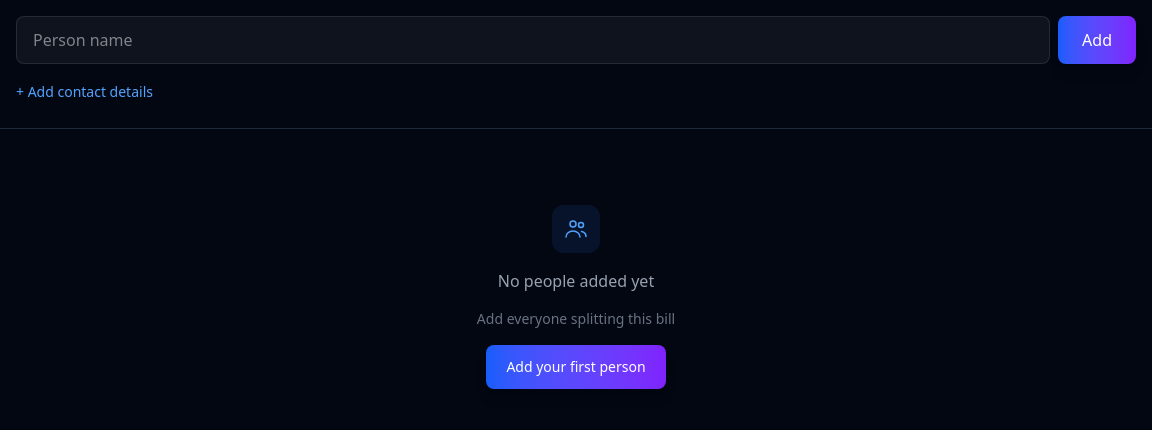
Test case: PeoplePanel › clears error when user starts typing
This screenshot has width=1152, height=430.
Click the button "Add" at x=1097, y=40, box [1058, 16, 1136, 64]
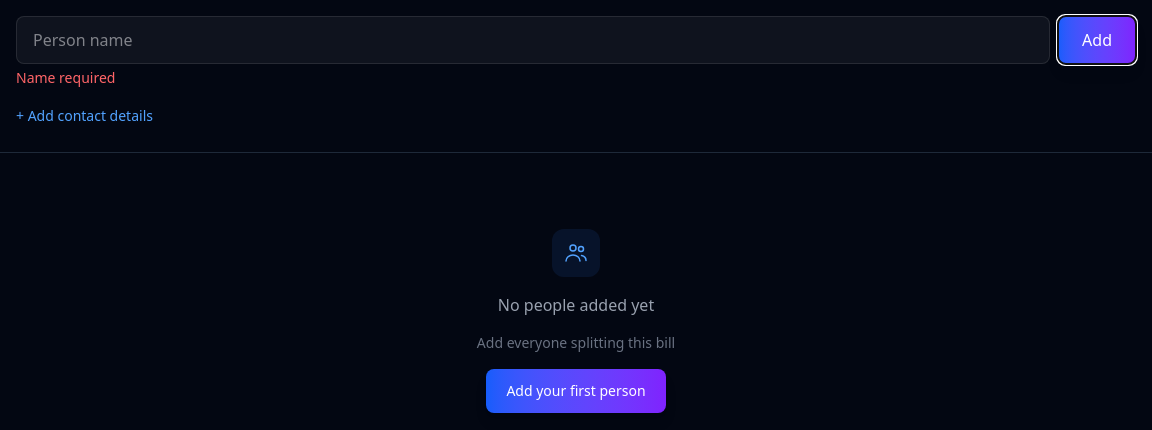
Result: the text "Name required" is shown at [16, 68, 115, 87]
Type "A" into the field with placeholder "Person name" at x=533, y=40, box [16, 16, 1050, 64]
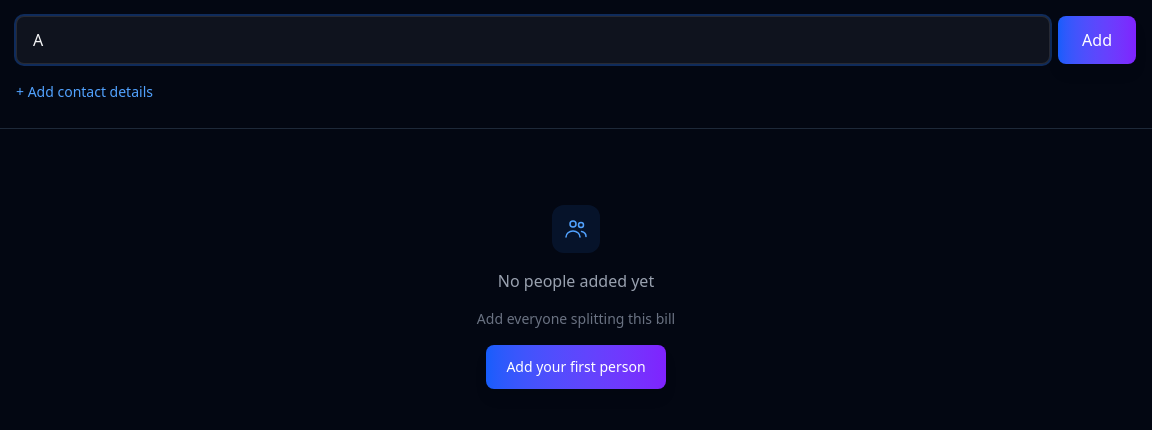
Result: the text "Name required" is gone
